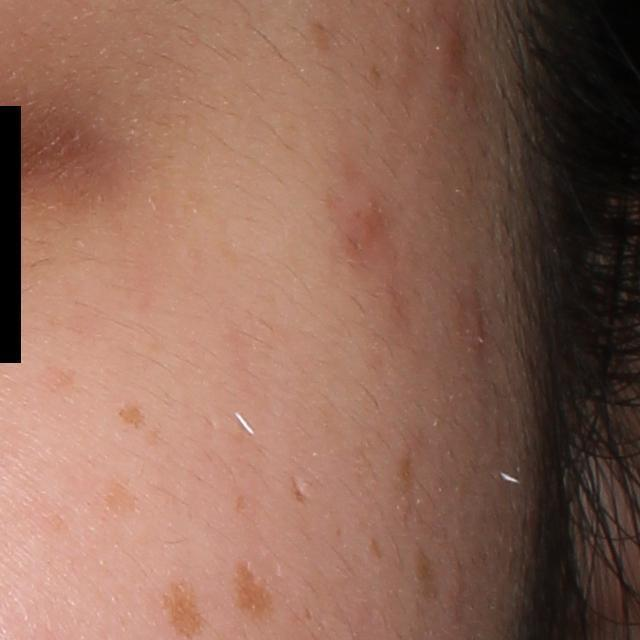atrophic_scar: (291, 476, 312, 508)
melasma: (231, 553, 279, 627), (408, 544, 442, 602), (102, 474, 141, 518), (112, 400, 150, 432), (232, 495, 250, 514)
